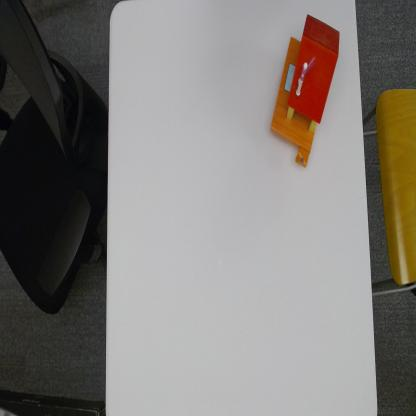House: (270, 11, 341, 166)
